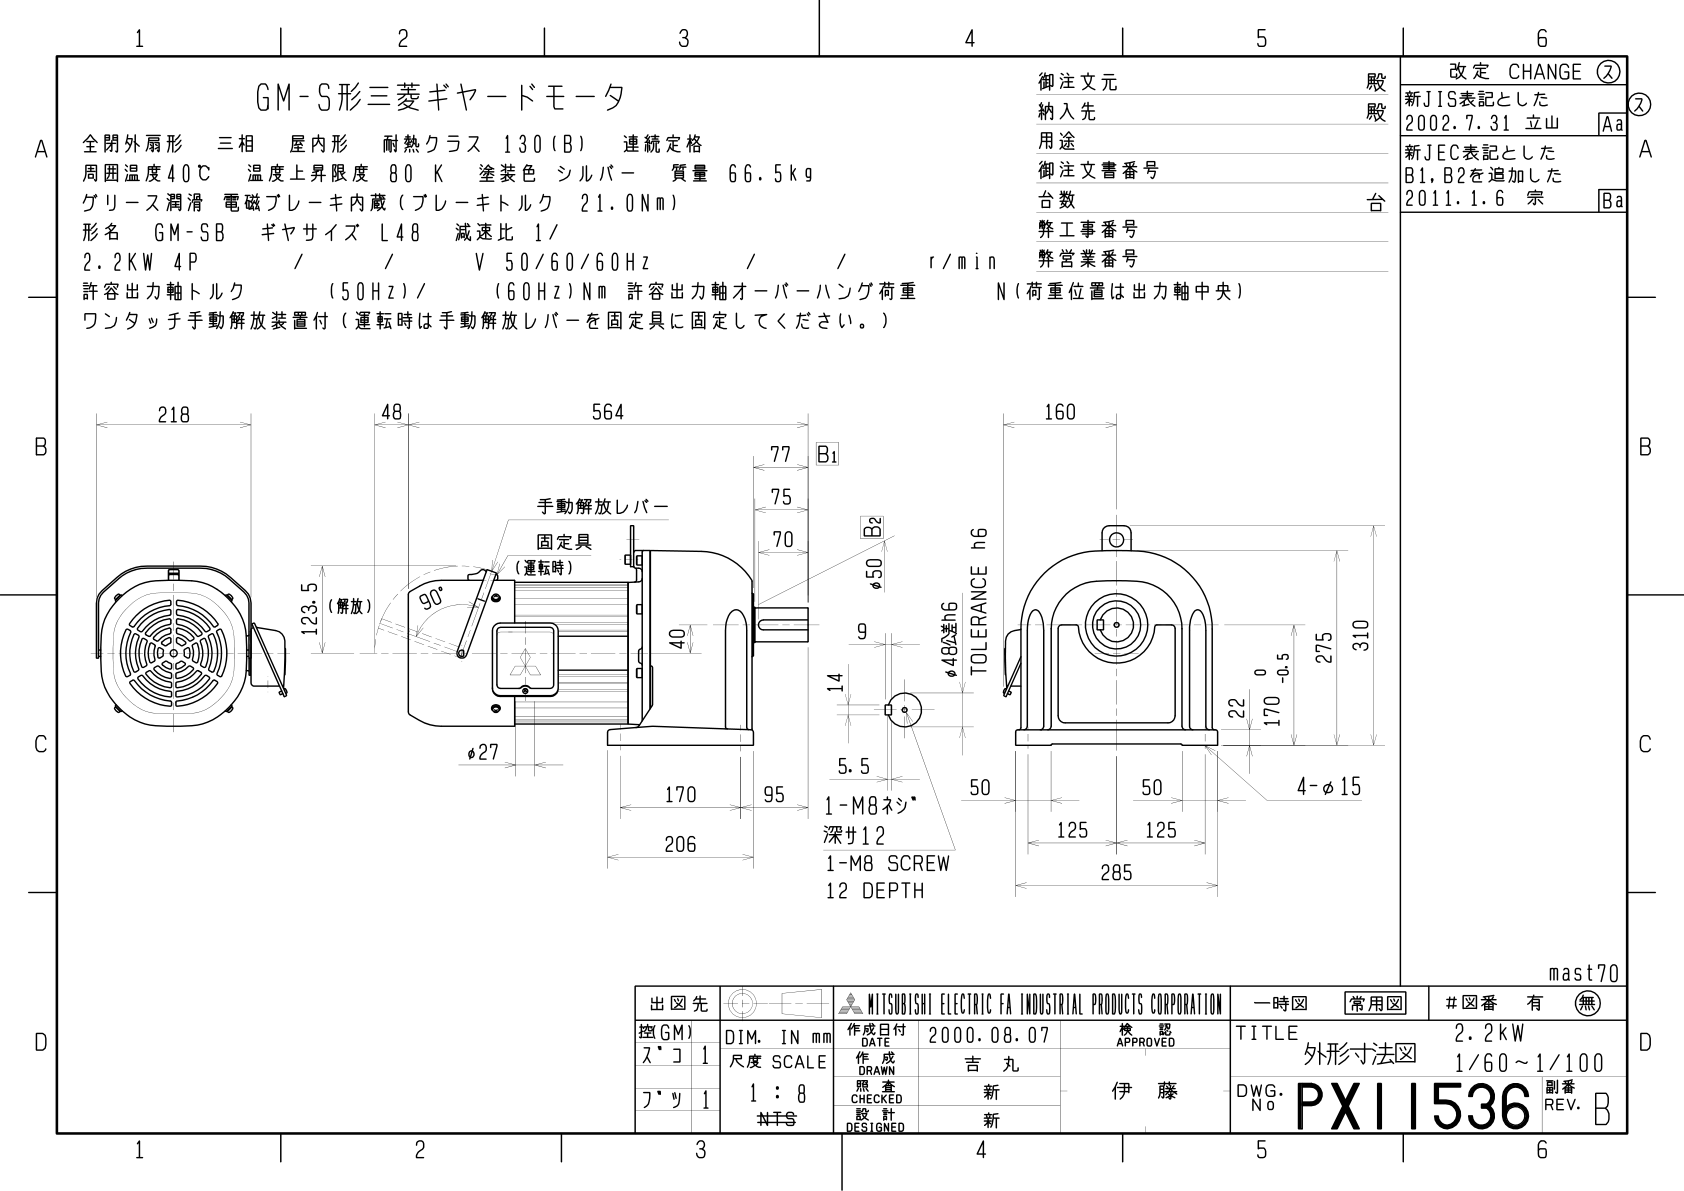GM_S_手動ブレーキ＿三相_脚: (71, 378, 1386, 931)
